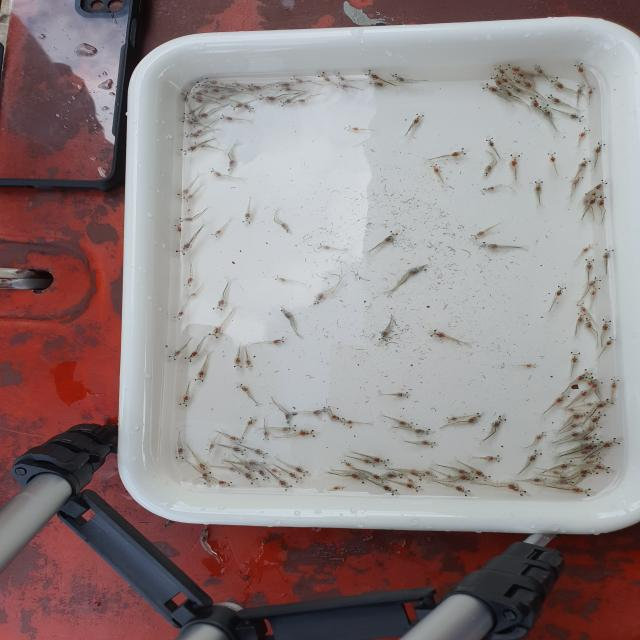babyshrimp: (311, 287, 335, 307), (204, 323, 227, 341), (422, 327, 455, 339), (163, 347, 187, 363), (208, 297, 232, 312), (172, 242, 197, 256), (470, 468, 494, 482), (491, 413, 509, 431), (197, 458, 215, 476), (193, 366, 211, 384), (507, 153, 524, 172), (193, 80, 219, 92), (506, 482, 528, 496), (176, 145, 201, 157), (585, 462, 612, 473), (287, 74, 314, 85), (240, 472, 261, 486), (181, 350, 202, 364), (279, 305, 297, 321), (256, 93, 280, 105), (347, 472, 369, 485), (526, 449, 545, 464), (588, 411, 608, 425), (574, 368, 597, 380), (590, 179, 611, 192), (250, 447, 271, 460), (179, 274, 197, 289), (175, 442, 189, 461), (172, 187, 191, 201), (447, 147, 471, 158), (368, 456, 392, 467), (299, 427, 321, 439), (453, 484, 473, 497), (362, 68, 382, 81), (587, 276, 604, 291), (571, 486, 594, 497), (554, 390, 572, 404), (408, 264, 429, 276), (277, 478, 296, 491), (477, 242, 499, 253), (380, 484, 400, 496), (234, 382, 254, 394), (409, 112, 426, 126), (469, 229, 487, 242), (177, 116, 198, 127), (552, 285, 571, 297), (466, 412, 485, 424), (382, 231, 401, 243), (285, 471, 304, 483), (537, 104, 553, 118), (569, 350, 583, 366), (177, 396, 194, 409), (292, 466, 312, 477), (598, 438, 622, 447), (176, 214, 200, 223), (317, 71, 335, 83), (551, 76, 565, 91), (599, 317, 613, 332), (608, 377, 623, 391), (376, 329, 391, 343), (282, 411, 297, 425), (480, 82, 499, 93), (594, 398, 613, 409), (577, 157, 593, 170), (587, 194, 603, 207), (577, 467, 600, 476), (178, 131, 201, 140), (533, 179, 545, 196), (603, 336, 620, 348), (589, 378, 606, 390), (369, 473, 386, 485), (208, 227, 225, 239), (504, 62, 524, 72), (403, 482, 423, 492), (556, 460, 578, 469), (277, 424, 299, 433), (389, 72, 407, 83), (488, 74, 502, 88), (573, 62, 587, 76), (429, 162, 443, 176), (583, 259, 597, 273), (602, 248, 615, 263), (173, 309, 188, 322), (225, 159, 240, 172), (506, 83, 522, 95), (384, 471, 408, 479), (219, 113, 235, 125), (545, 94, 564, 104), (409, 471, 428, 481), (315, 242, 334, 252), (228, 445, 247, 455), (307, 408, 330, 416), (594, 141, 608, 154), (485, 137, 499, 150), (231, 356, 245, 369), (455, 467, 475, 476), (270, 335, 288, 345), (358, 458, 378, 467), (257, 470, 272, 482), (227, 435, 247, 444), (517, 77, 533, 88), (579, 433, 601, 441), (205, 441, 221, 452), (579, 244, 596, 254), (329, 414, 346, 424), (279, 221, 292, 234), (544, 152, 558, 164), (572, 174, 586, 186), (416, 440, 437, 448), (240, 213, 254, 225), (192, 112, 213, 120), (278, 97, 293, 108), (566, 113, 584, 122), (345, 124, 363, 133), (566, 411, 589, 418), (484, 455, 504, 463), (528, 95, 541, 107), (590, 285, 603, 297), (578, 127, 592, 138), (396, 421, 415, 429), (242, 103, 257, 113), (575, 313, 587, 325), (180, 194, 196, 203), (208, 168, 224, 177), (228, 102, 244, 111), (482, 165, 495, 176), (598, 195, 609, 208), (575, 302, 588, 313), (340, 458, 353, 469), (245, 415, 258, 426), (493, 64, 507, 74), (532, 430, 546, 440), (552, 469, 567, 478), (273, 274, 288, 283), (268, 468, 287, 475), (172, 223, 184, 234), (584, 317, 594, 330), (260, 431, 273, 441), (527, 477, 545, 484), (394, 391, 412, 398), (216, 480, 234, 487), (245, 357, 255, 369), (181, 90, 191, 102), (483, 185, 497, 193), (334, 82, 350, 89), (575, 84, 586, 94), (533, 65, 545, 74), (333, 72, 345, 81), (340, 418, 355, 425), (185, 291, 198, 298), (587, 87, 597, 96), (184, 208, 195, 216), (525, 363, 539, 369), (446, 416, 458, 423), (331, 485, 347, 490), (416, 428, 433, 432), (373, 82, 384, 88), (293, 99, 305, 104)
